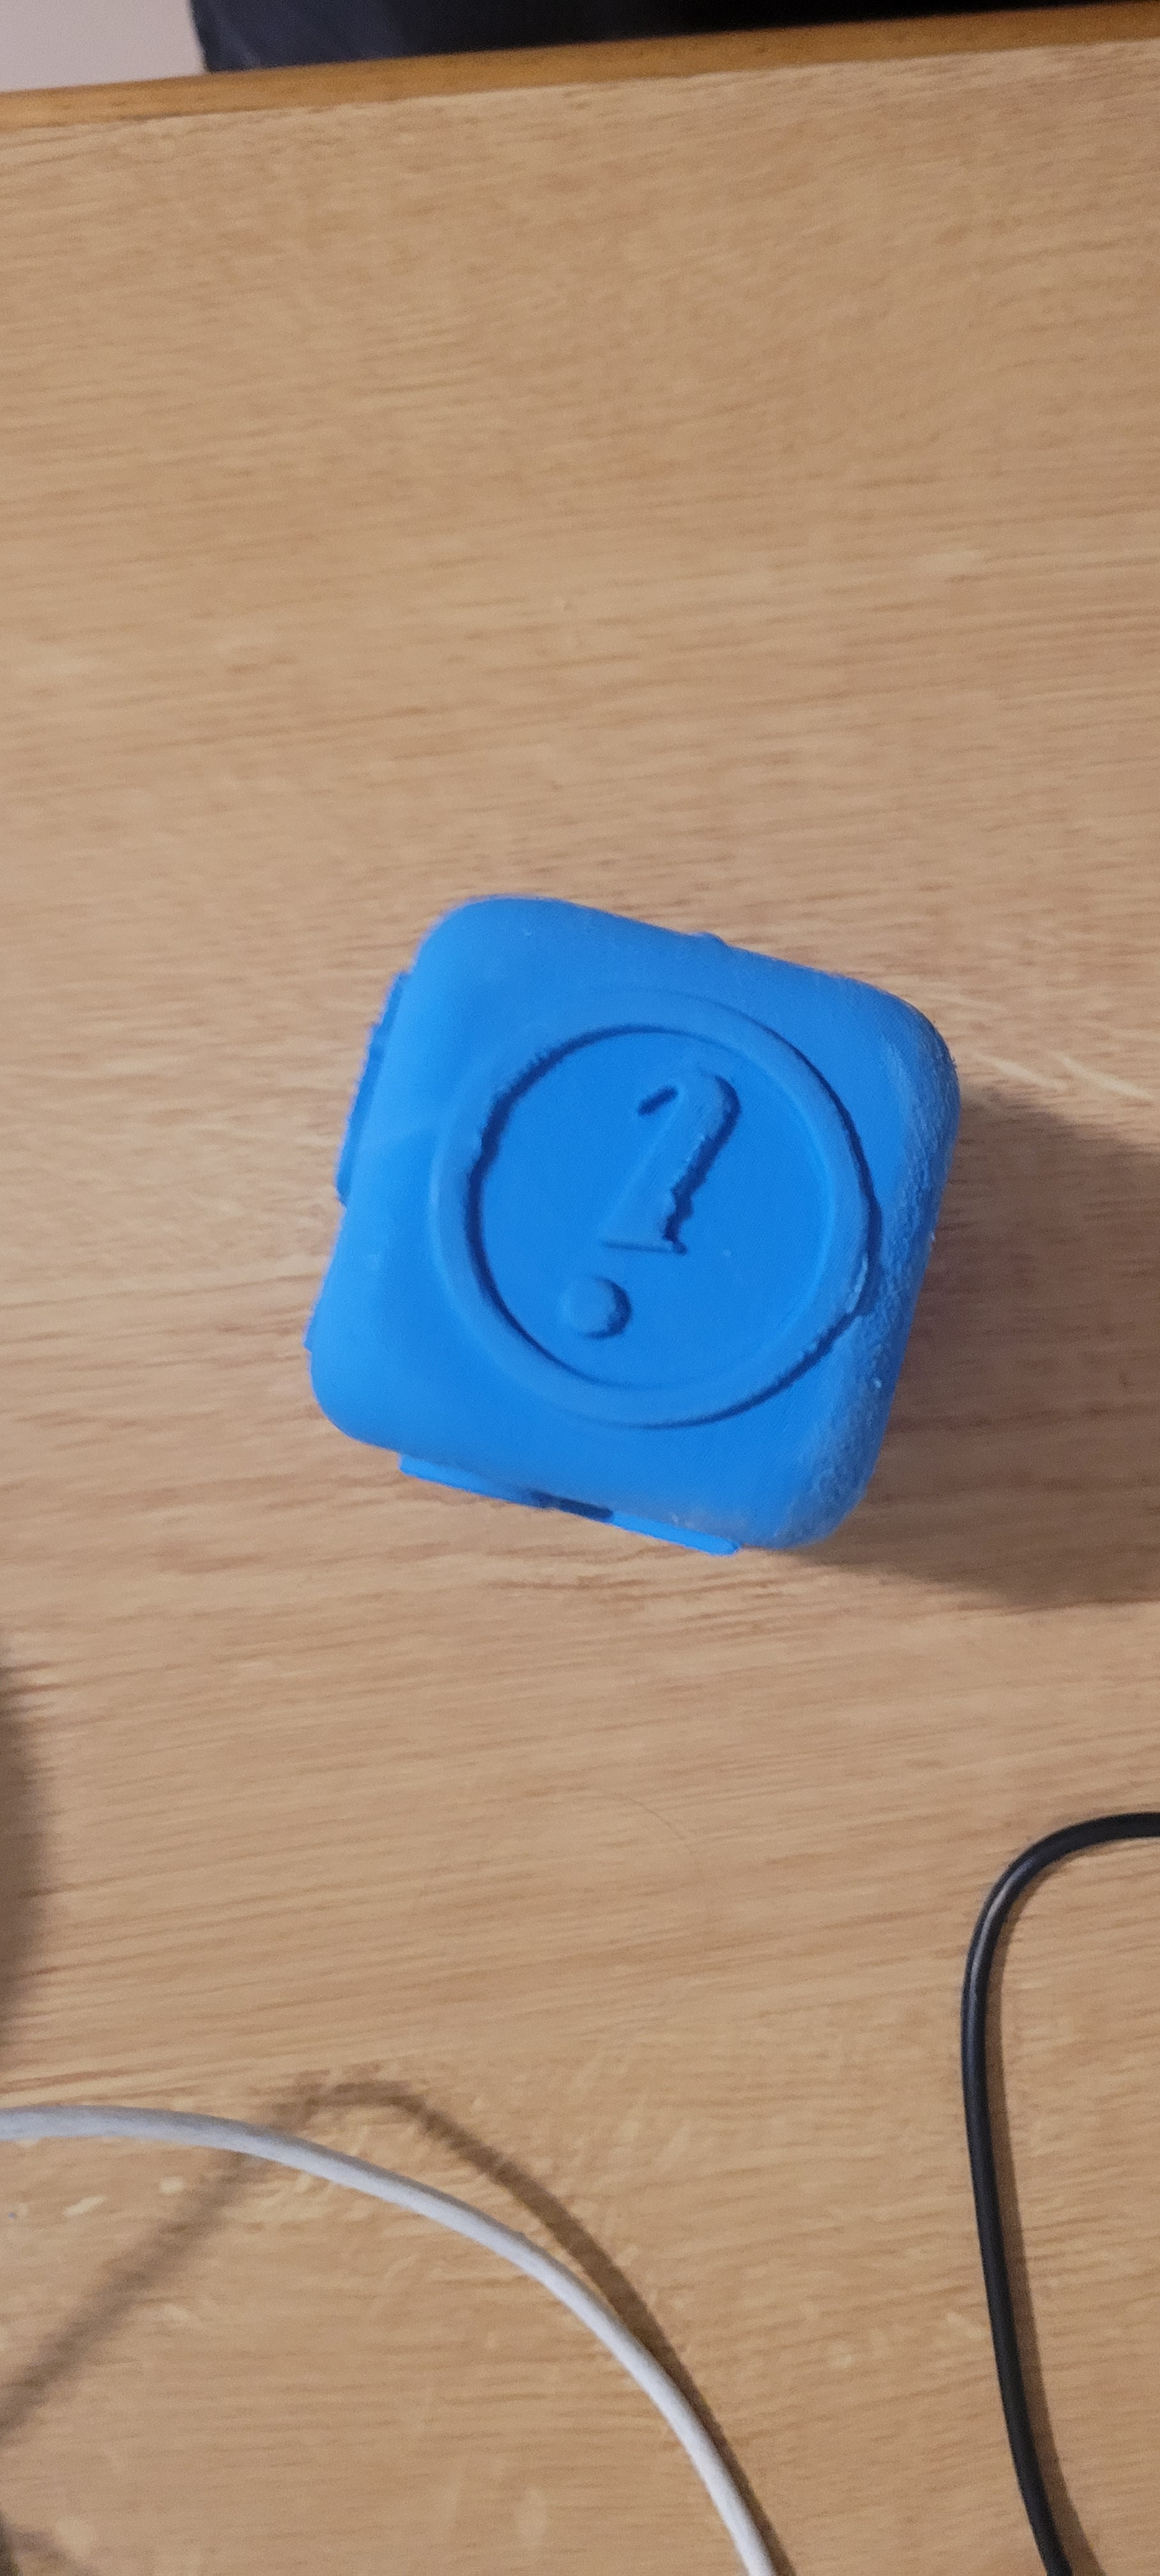Info: (426, 940, 917, 1447)
